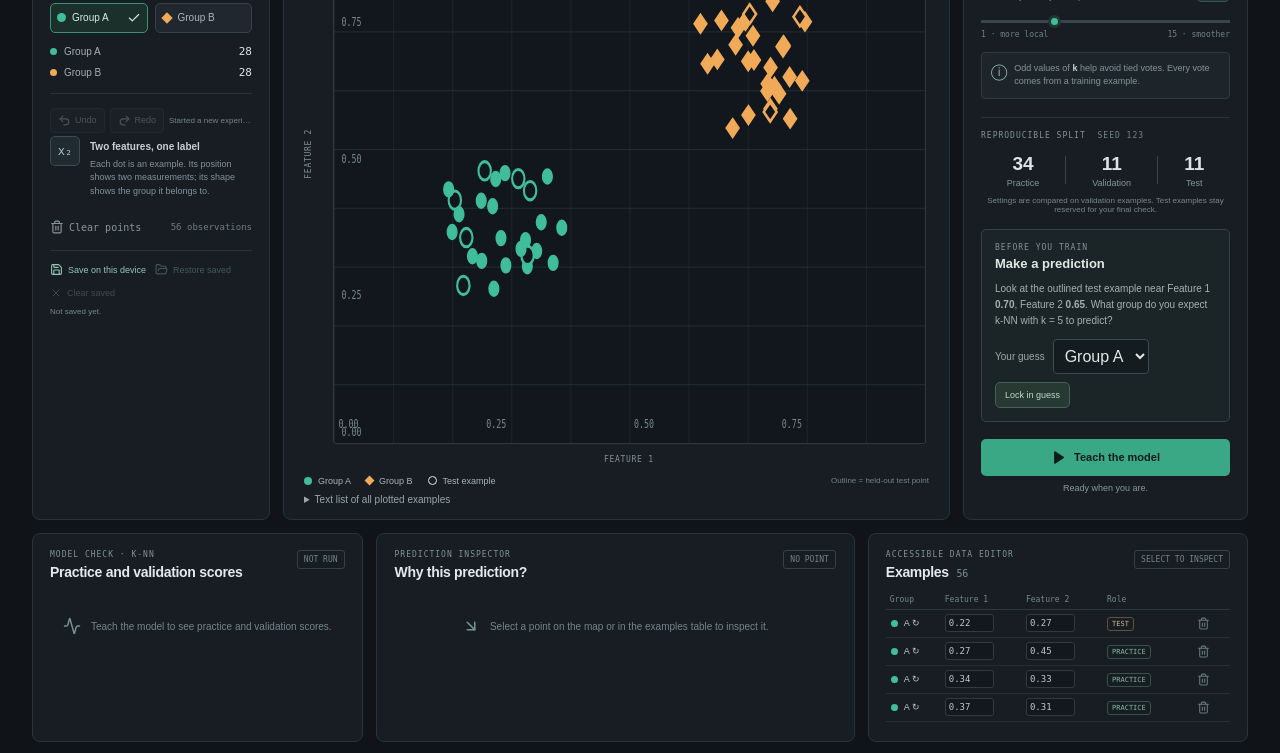
Scenario: AI Playground workspace › reveals a prediction challenge only after a guess is submitted and model is trained
(page scrolled)
Check: the text "The model predicted Group" is not shown
What coordinates should you click on to do the following:
click the button "Lock in guess"
I would click on:
 (1032, 395)
Its box is [995,382,1070,408].
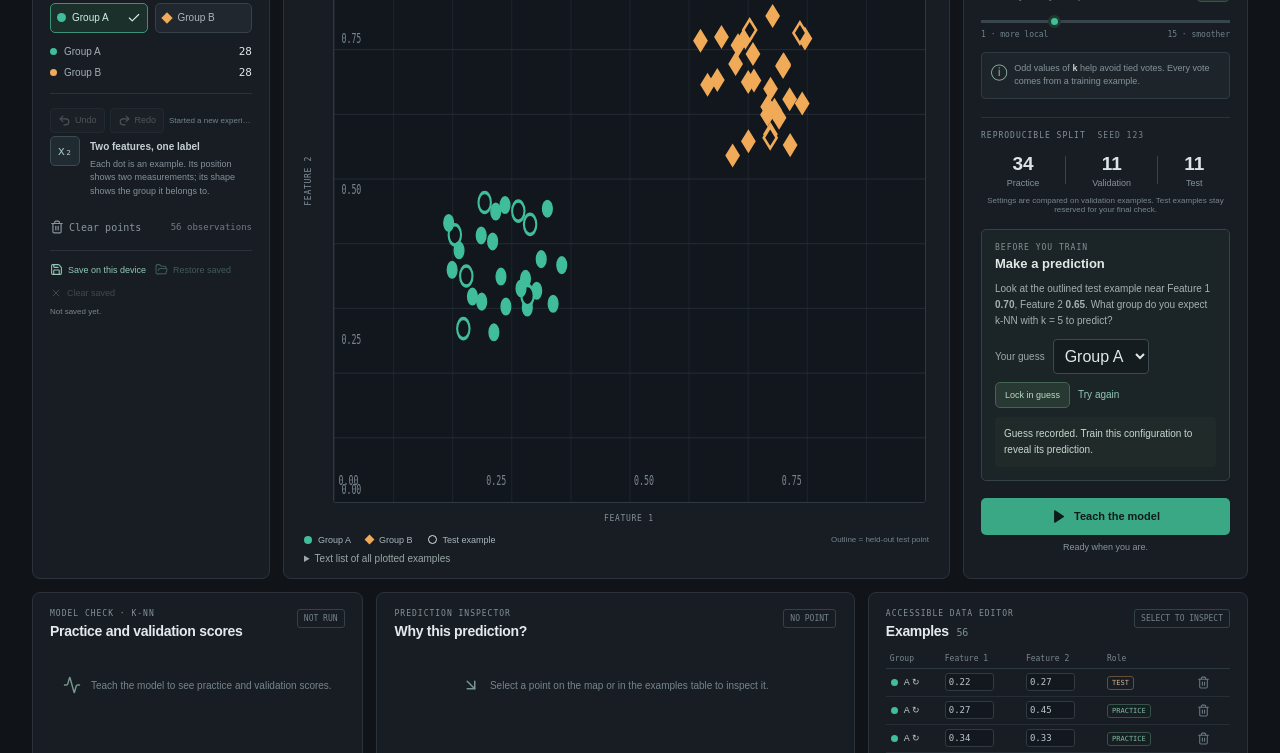
Check: the text "Guess recorded. Train this configuration to reveal its prediction." is shown, box [995,417,1216,467]
What coordinates should you click on to do the following:
click the button "Teach the model"
I would click on:
 (1106, 516)
Its box is [981,498,1230,535].
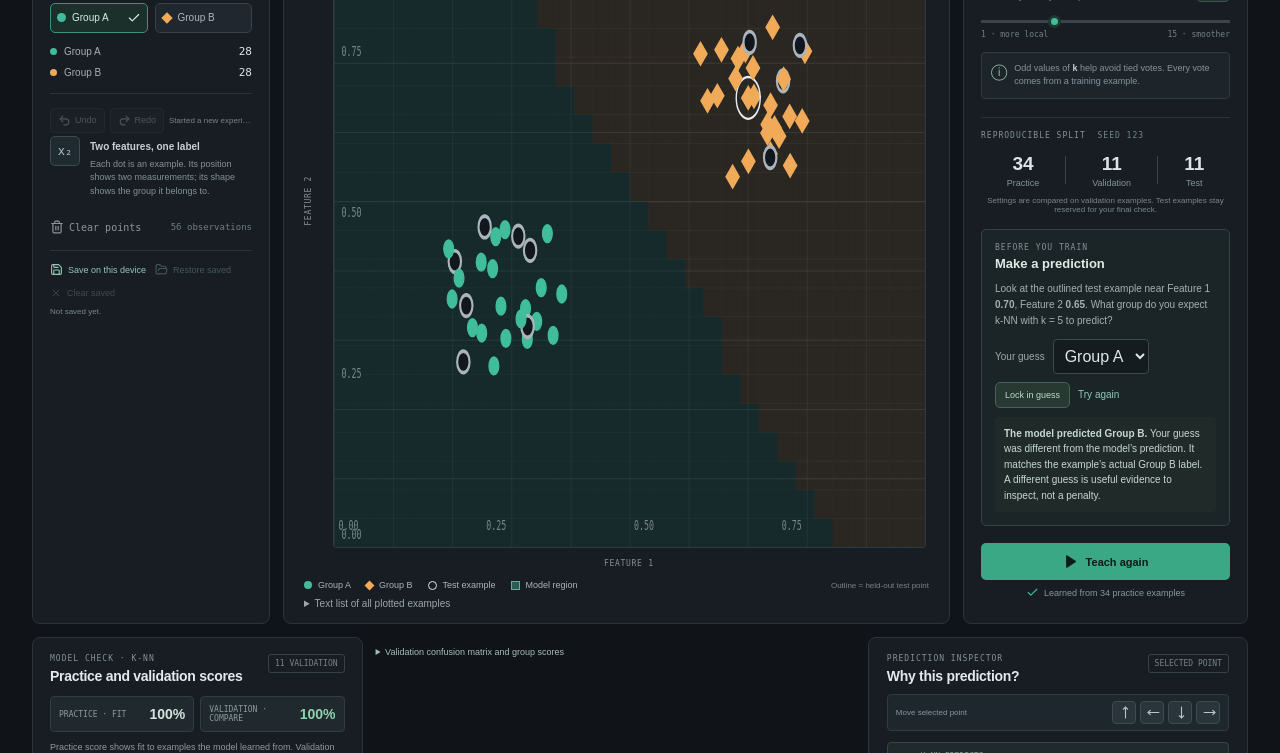
Check: the text "The model predicted Group B." is shown, box [1004,428,1147,439]
